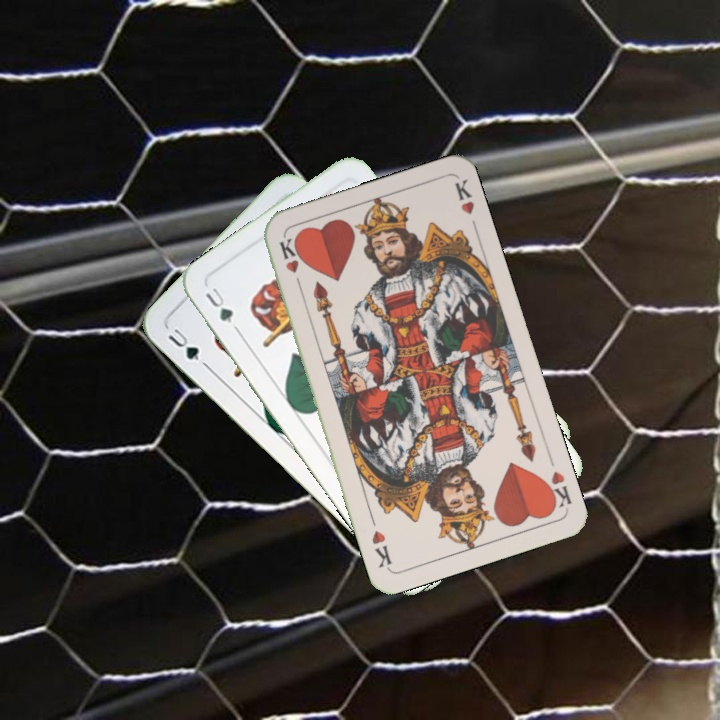GU: (163, 324, 202, 364), (201, 283, 236, 326)
HK: (275, 233, 305, 292), (540, 467, 575, 513)
